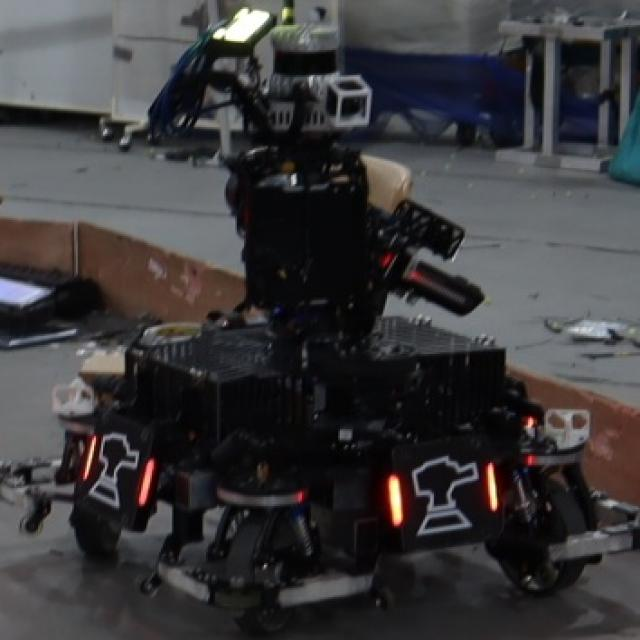Rs: (382, 447, 502, 542), (81, 426, 158, 516)
